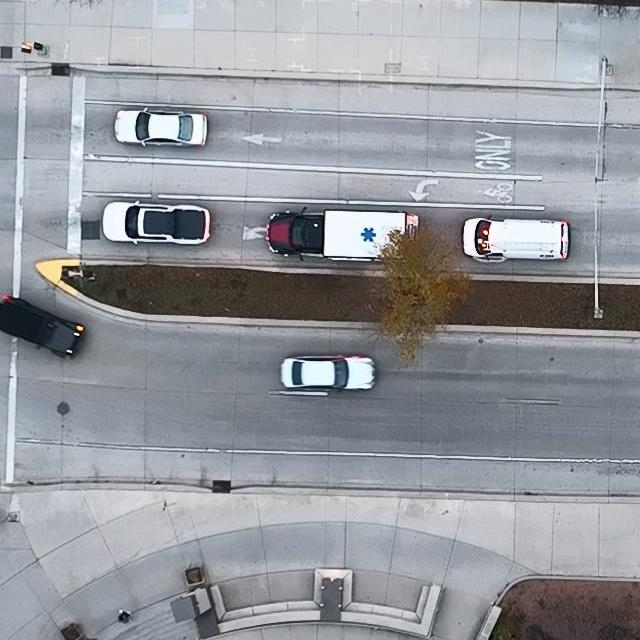car: (267, 206, 419, 263), (0, 295, 86, 361), (462, 213, 572, 262), (102, 200, 211, 246), (280, 352, 376, 393), (114, 108, 208, 148)
